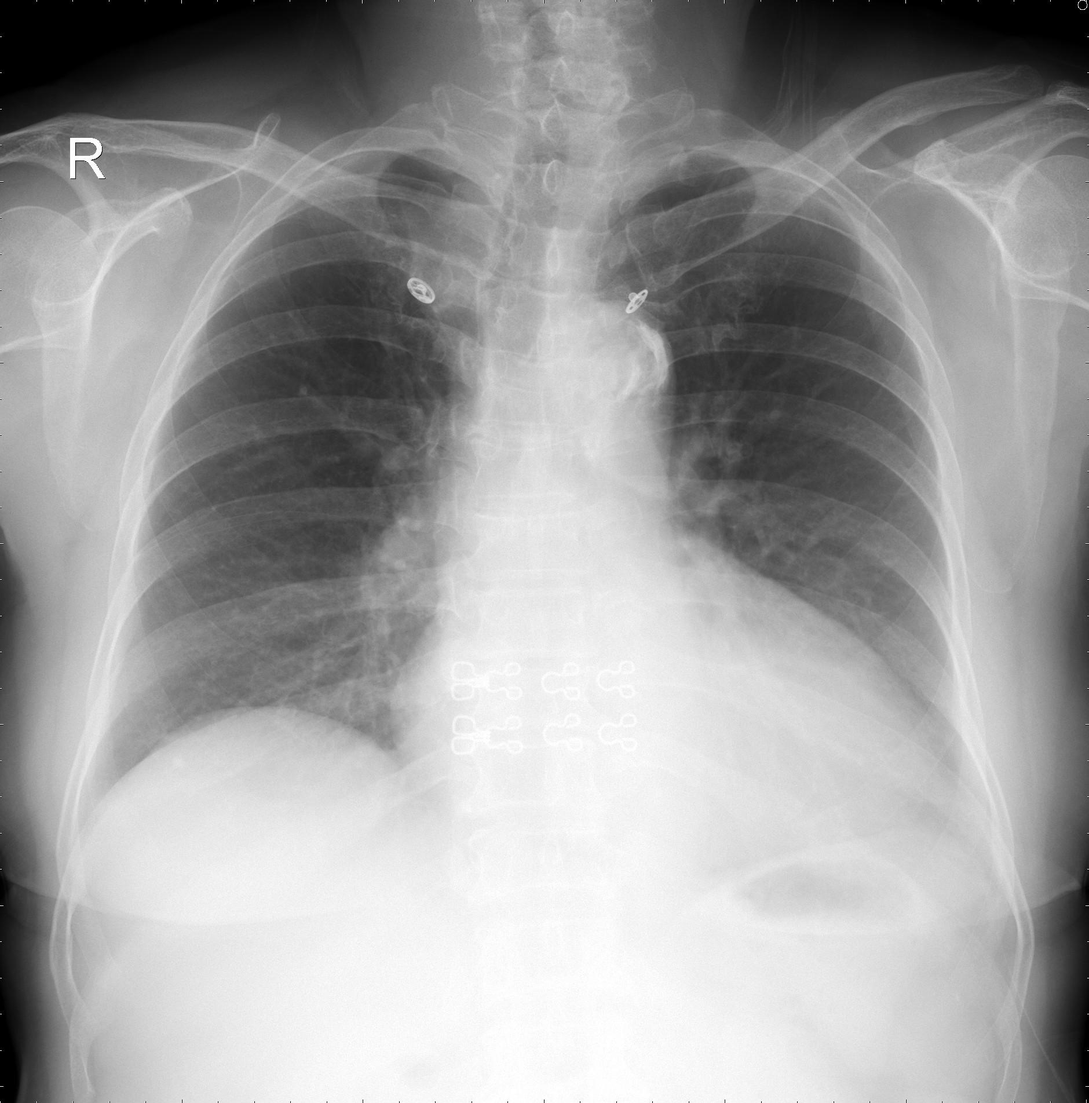Aortic enlargement: (531, 297, 676, 481)
Cardiomegaly: (386, 629, 940, 844)
